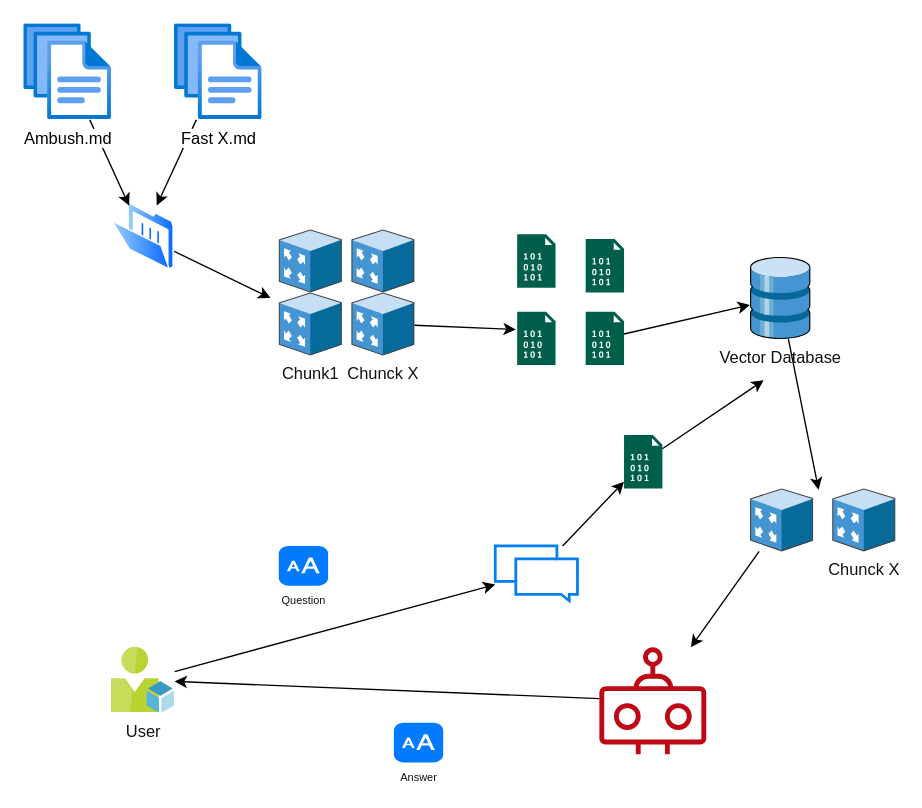
Some shapes in this 922 by 808 pixel diagram are drawn without their labels. Each missing label, with the centre of its shape:
Bot: the point at 652,700
Chat: the point at 535,572
Chunk 3: the point at 781,519
Embedding 1: the point at 535,337
Folder: the point at 142,235
